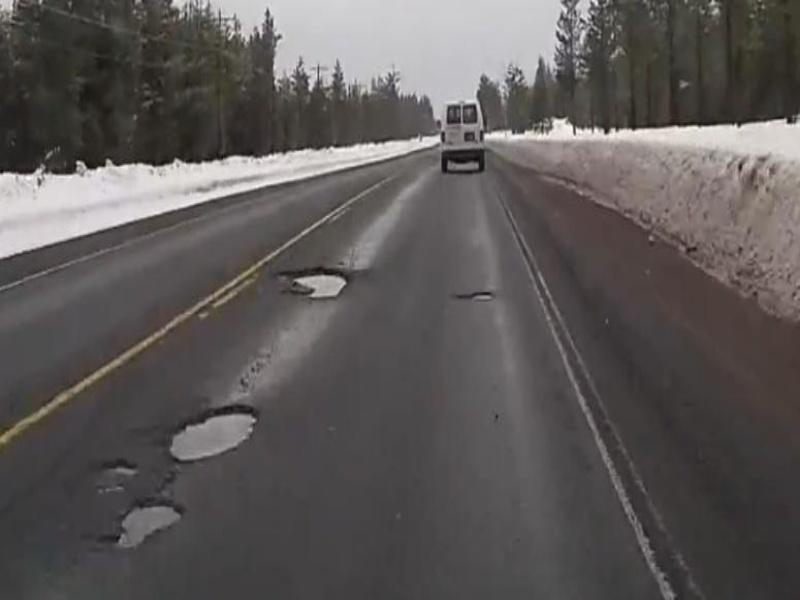pothole: (163, 400, 267, 465), (106, 497, 191, 552), (283, 262, 350, 303)
